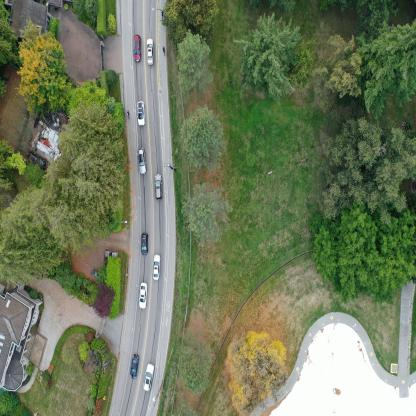Coniferous Tree: (329, 123, 416, 215), (347, 22, 416, 111), (243, 11, 294, 110), (224, 333, 290, 407), (0, 214, 70, 277), (66, 107, 123, 160), (182, 181, 228, 246), (182, 108, 224, 174), (76, 170, 117, 230), (176, 40, 217, 98), (49, 202, 92, 250), (181, 326, 212, 392), (76, 153, 131, 188), (324, 38, 356, 98), (2, 183, 48, 221), (45, 157, 77, 204)
Deciduous Tree: (311, 215, 416, 300), (14, 21, 72, 116), (96, 283, 114, 318)
